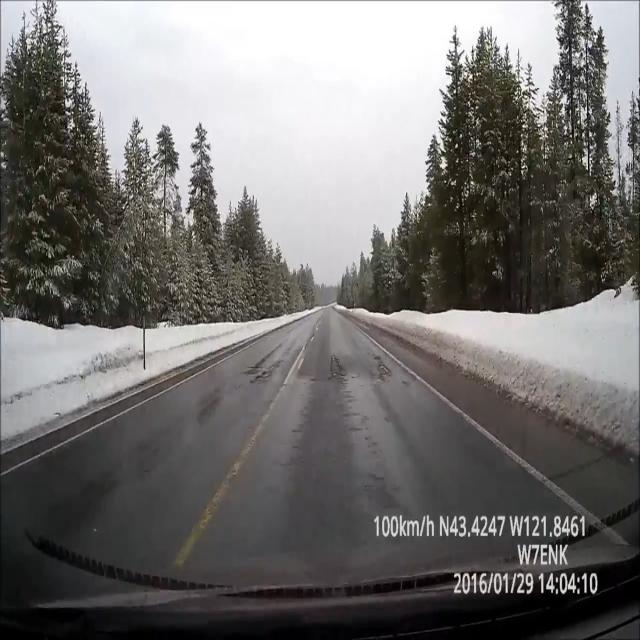Pothole: (371, 342, 393, 387), (328, 349, 347, 389)
